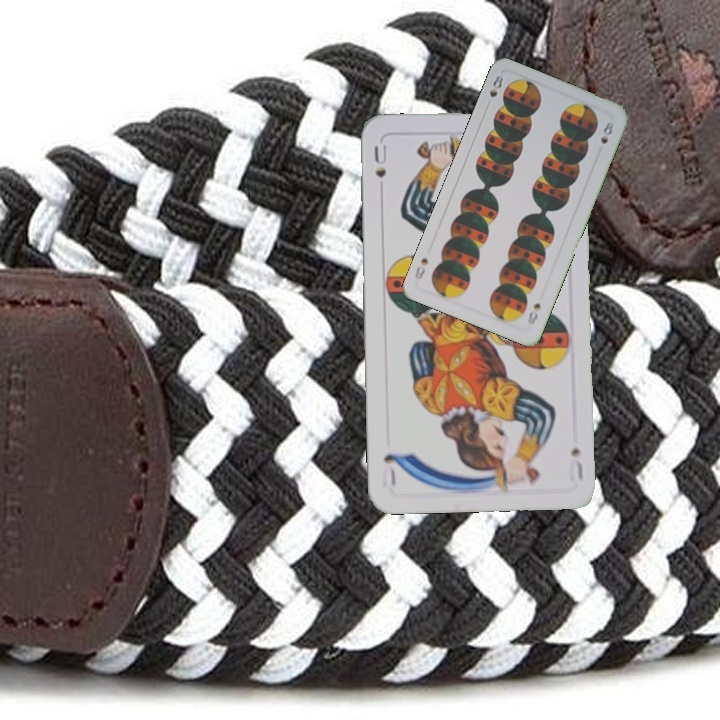S8: (482, 71, 506, 110), (523, 299, 543, 328)
SU: (565, 443, 586, 483), (370, 141, 389, 180)
